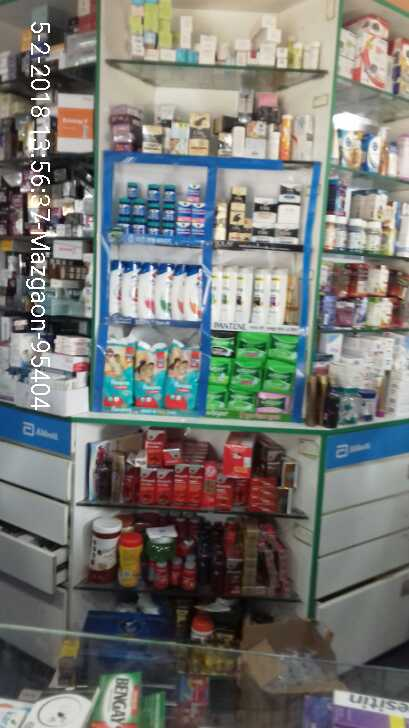beauty: (267, 264, 288, 327), (119, 263, 140, 320), (248, 269, 267, 328), (106, 255, 122, 318), (155, 263, 172, 320), (185, 270, 202, 324), (221, 264, 235, 327), (172, 264, 187, 322), (249, 199, 279, 227), (235, 266, 248, 325), (140, 262, 151, 318), (276, 180, 302, 202), (225, 209, 240, 244), (230, 176, 244, 209)
pharmacy: (168, 341, 199, 416), (103, 343, 134, 407), (135, 346, 166, 409), (179, 193, 206, 237), (235, 333, 268, 364), (265, 361, 296, 393), (234, 356, 261, 389), (141, 201, 178, 225), (251, 393, 287, 417), (205, 353, 228, 390), (208, 332, 237, 358), (231, 388, 252, 415), (205, 380, 225, 408), (269, 337, 296, 357), (116, 199, 141, 217), (179, 177, 199, 198), (145, 184, 161, 205), (122, 179, 135, 200), (160, 186, 174, 201)
